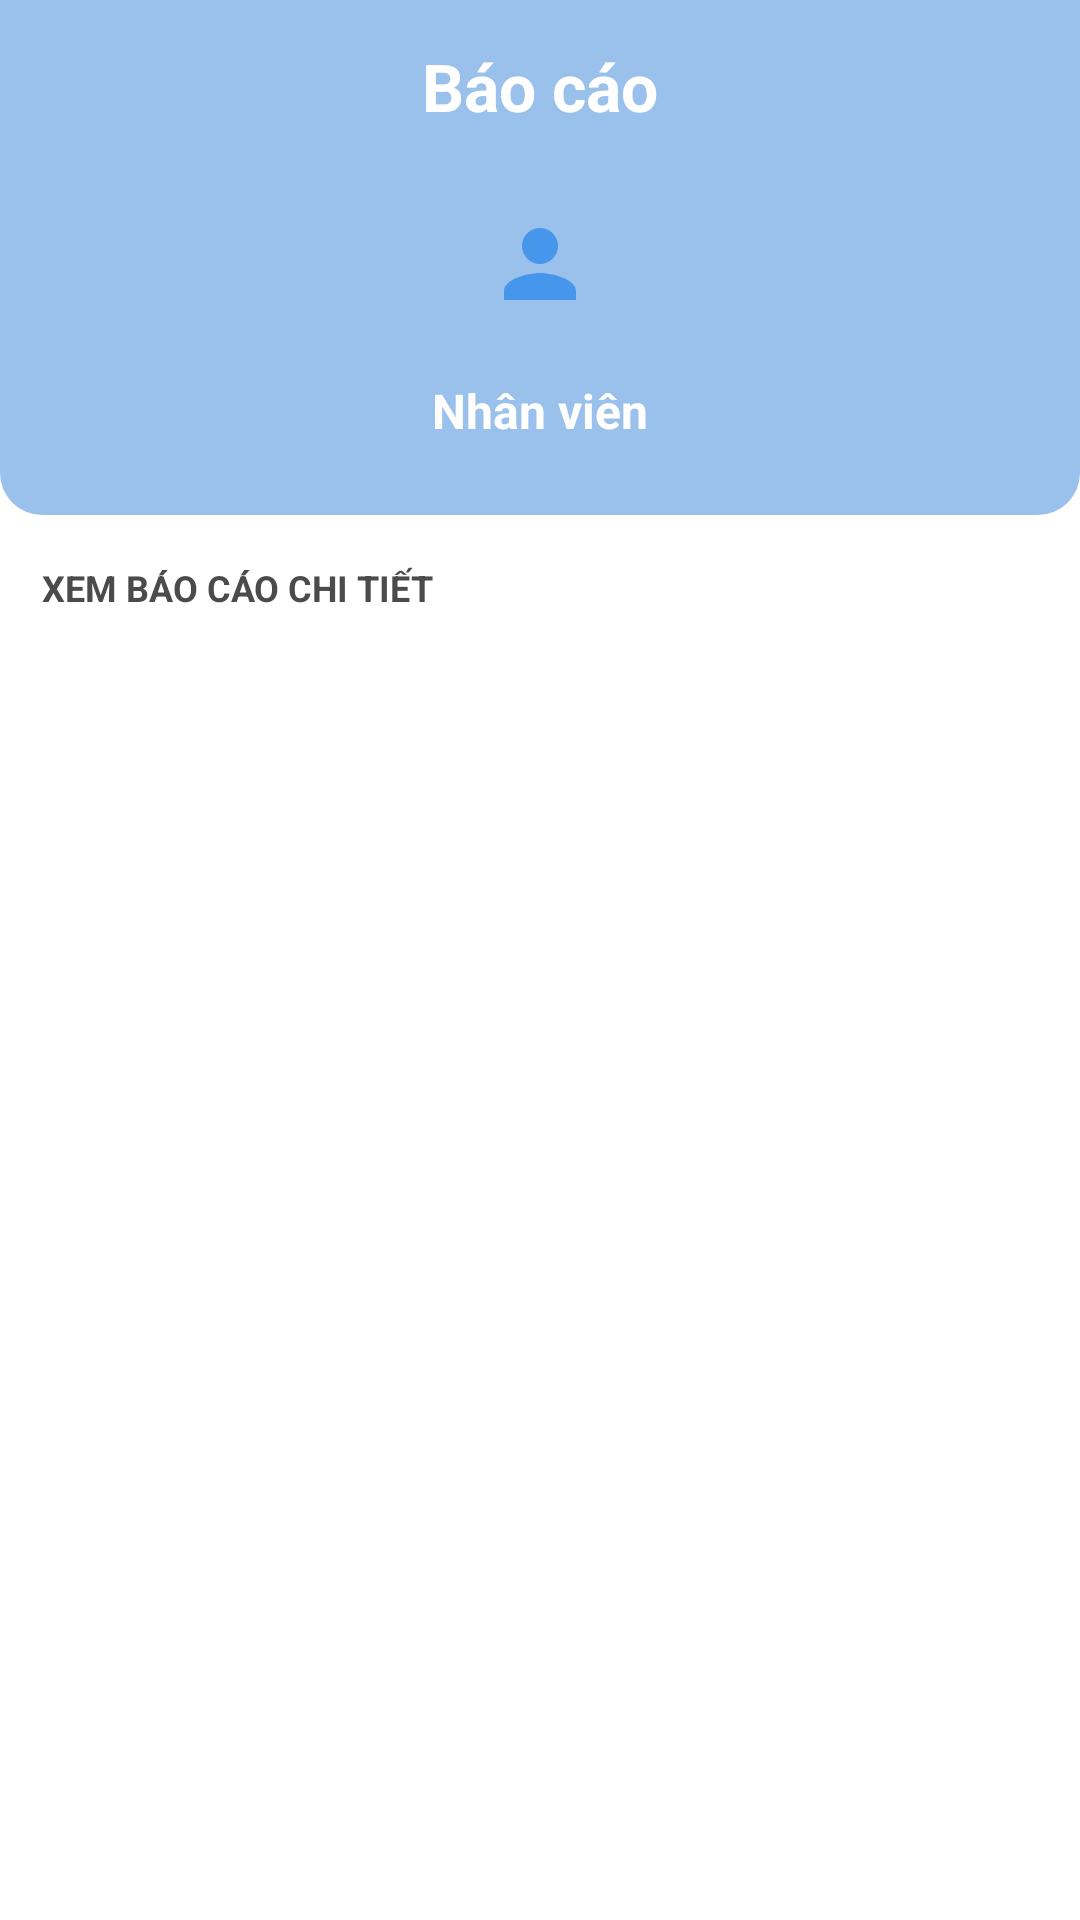

Point at icon controls on the screen. Image size 1080px x 1920px, points as [x,y].
Avatar: [540,264]
